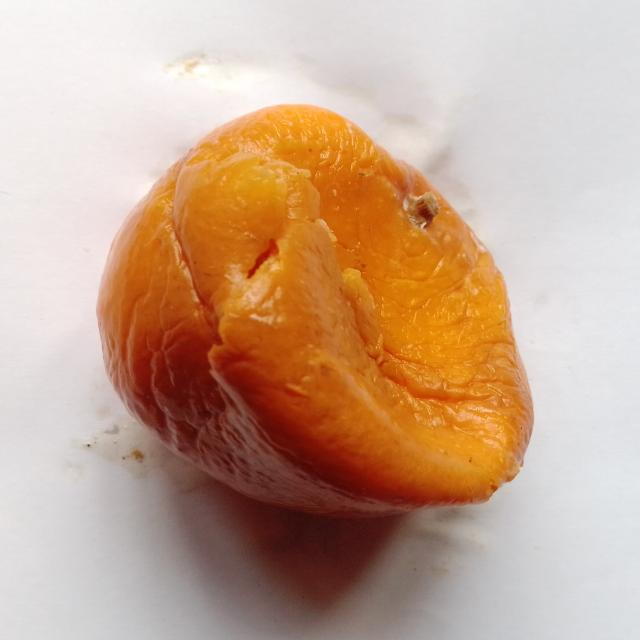orange: (98, 106, 532, 515)
